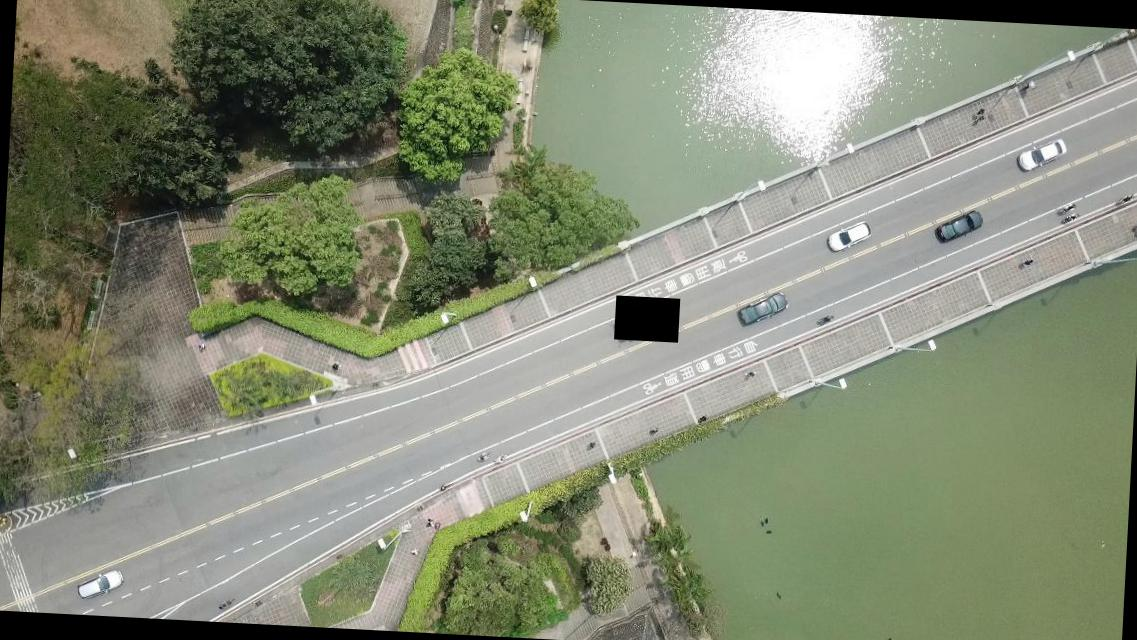vehicle: (737, 290, 788, 330), (1016, 136, 1068, 175), (934, 210, 982, 247), (825, 218, 871, 254), (76, 567, 124, 601)
